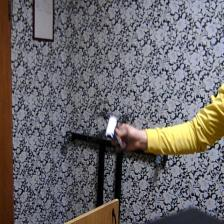drone: (89, 99, 133, 157)
